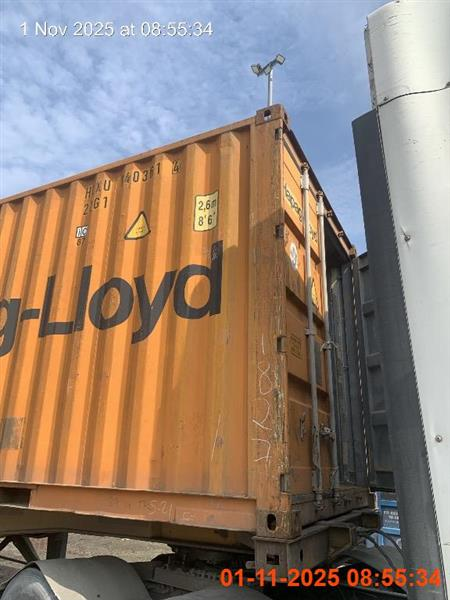rust: (1, 0, 440, 597)
